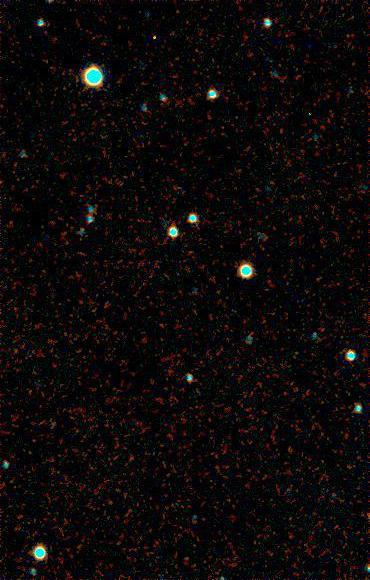star: (142, 20, 172, 50)
